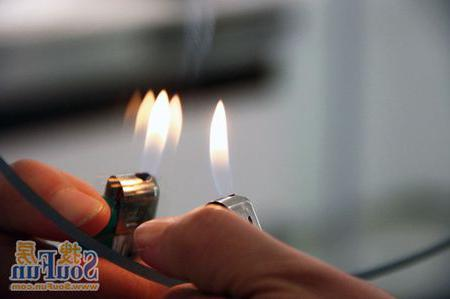fire: (133, 79, 185, 192), (204, 95, 244, 203)
